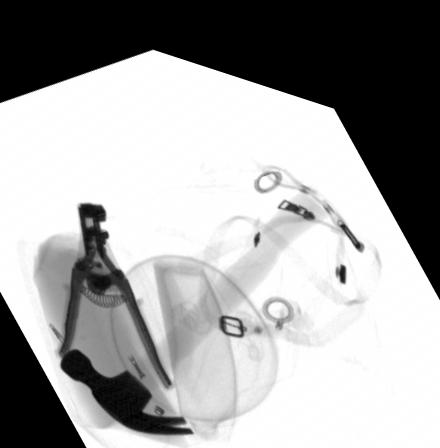Hammer: (59, 168, 330, 425)
Pliers: (54, 194, 176, 379)
